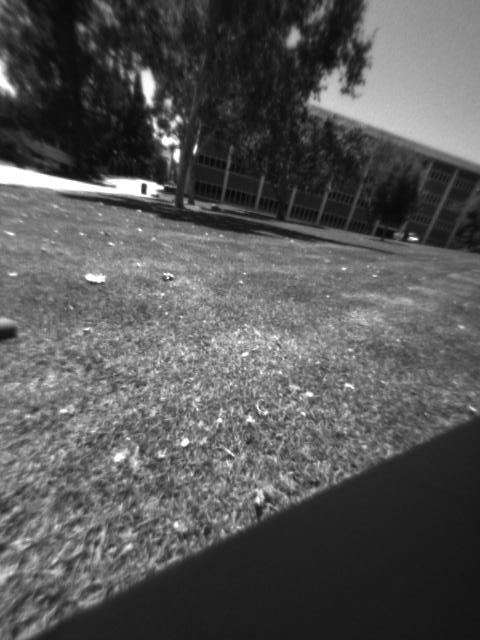dogtoy: (1, 308, 27, 343)
